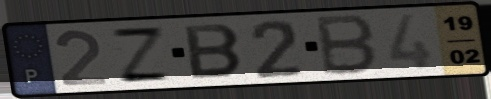2: (247, 17, 307, 80), (52, 28, 113, 88)
4: (386, 12, 437, 72)
B: (315, 13, 380, 78), (182, 23, 247, 81)
Z: (107, 26, 175, 84)
